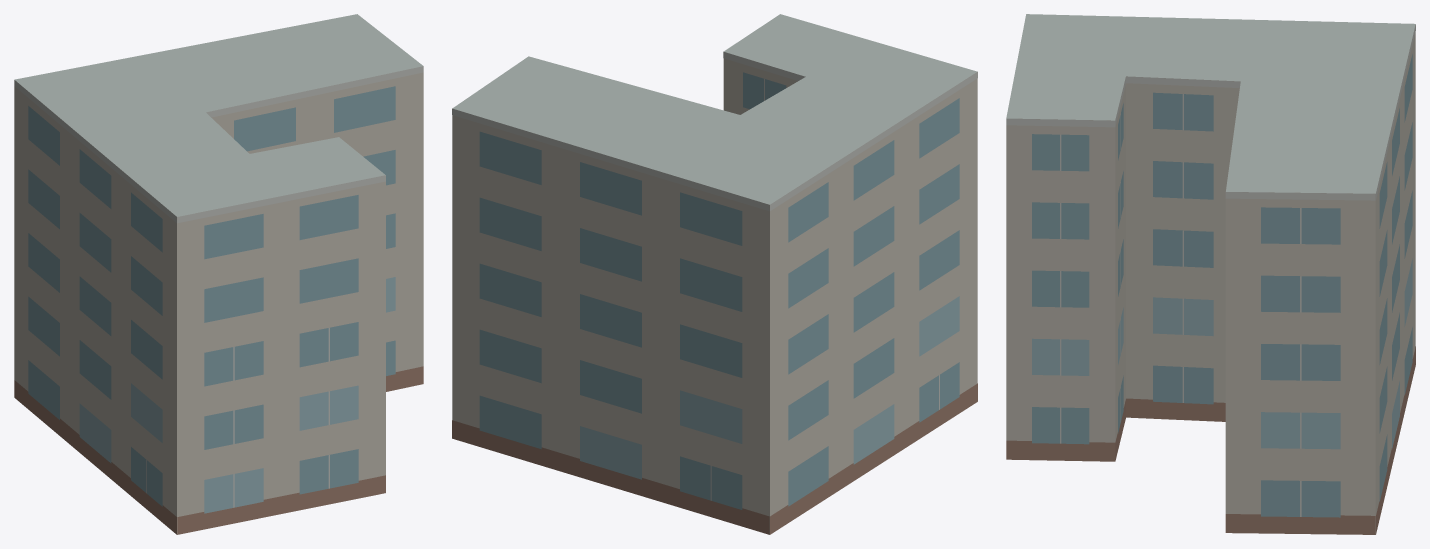
The model's file is survey-upis-33025378.glb.
3 renders of one model, left to right at view 1: azimuth 30°, elevation 25°; view 2: azimuth 150°, elevation 25°; view 3: azimuth 270°, elevation 25°, orthographic. The views are drawn at different scales.
Visible parts, largest first — view 1: survey-upis-33025378.tmp; view 2: survey-upis-33025378.tmp; view 3: survey-upis-33025378.tmp.
Boxes of the visible parts, left/top/right/bottom form: survey-upis-33025378.tmp: left=14, top=14, right=423, bottom=534; survey-upis-33025378.tmp: left=452, top=14, right=977, bottom=534; survey-upis-33025378.tmp: left=1006, top=14, right=1415, bottom=534.
Bounding box in the file's own units: 13.83 × 12.23 × 13.32.
